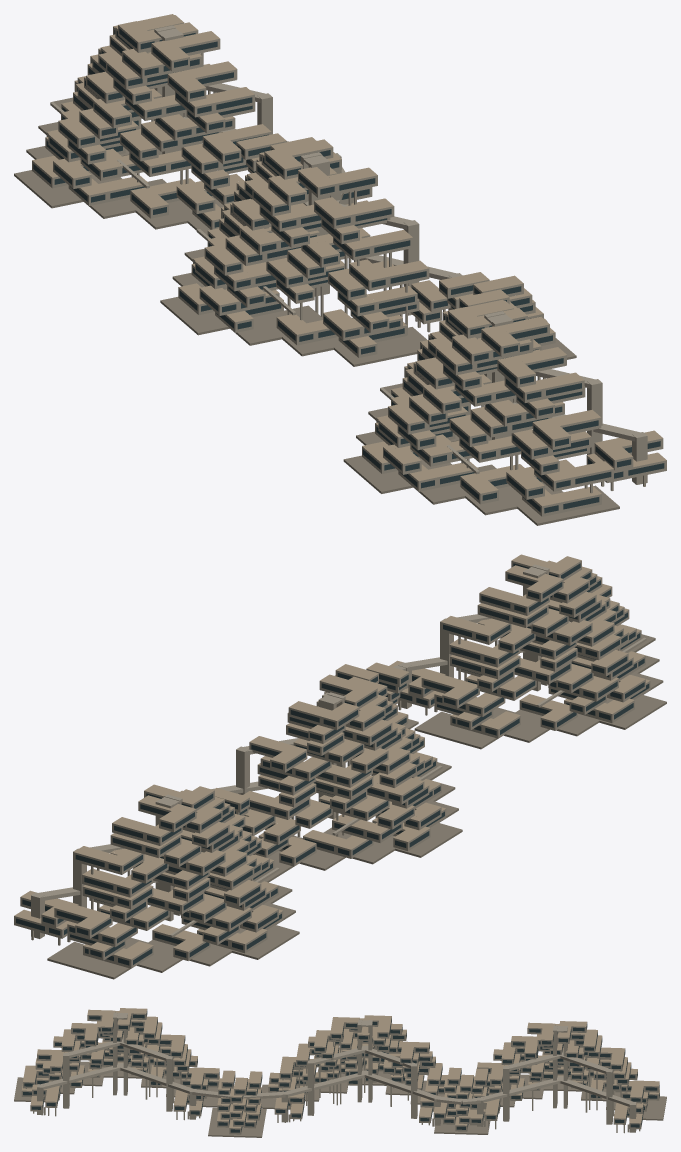
File: habitat-67-far.glb
3 views of the same model, one above another, from view 1: azimuth 30°, elevation 25°; view 2: azimuth 150°, elevation 25°; view 3: azimuth 270°, elevation 25° (orthographic). The views are drawn at different scales.
Visible parts, largest first — view 1: habitat-67-0-concrete, habitat-67-0-roof, habitat-67-0-glass, habitat-67-0-stone; view 2: habitat-67-0-concrete, habitat-67-0-roof, habitat-67-0-glass, habitat-67-0-stone; view 3: habitat-67-0-concrete, habitat-67-0-roof, habitat-67-0-glass, habitat-67-0-stone.
Part boxes in pixels (bbox=[...]): habitat-67-0-concrete: bbox=[32, 22, 666, 516]; habitat-67-0-roof: bbox=[32, 14, 666, 506]; habitat-67-0-glass: bbox=[33, 28, 664, 513]; habitat-67-0-stone: bbox=[14, 97, 619, 525]; habitat-67-0-concrete: bbox=[14, 560, 650, 968]; habitat-67-0-roof: bbox=[14, 554, 649, 959]; habitat-67-0-glass: bbox=[16, 563, 649, 965]; habitat-67-0-stone: bbox=[47, 634, 666, 979]; habitat-67-0-concrete: bbox=[21, 1009, 659, 1134]; habitat-67-0-roof: bbox=[21, 1008, 659, 1128]; habitat-67-0-glass: bbox=[23, 1011, 659, 1132]; habitat-67-0-stone: bbox=[14, 1061, 666, 1137].
Size of the model in its own units: 88.43 by 38 by 290.
